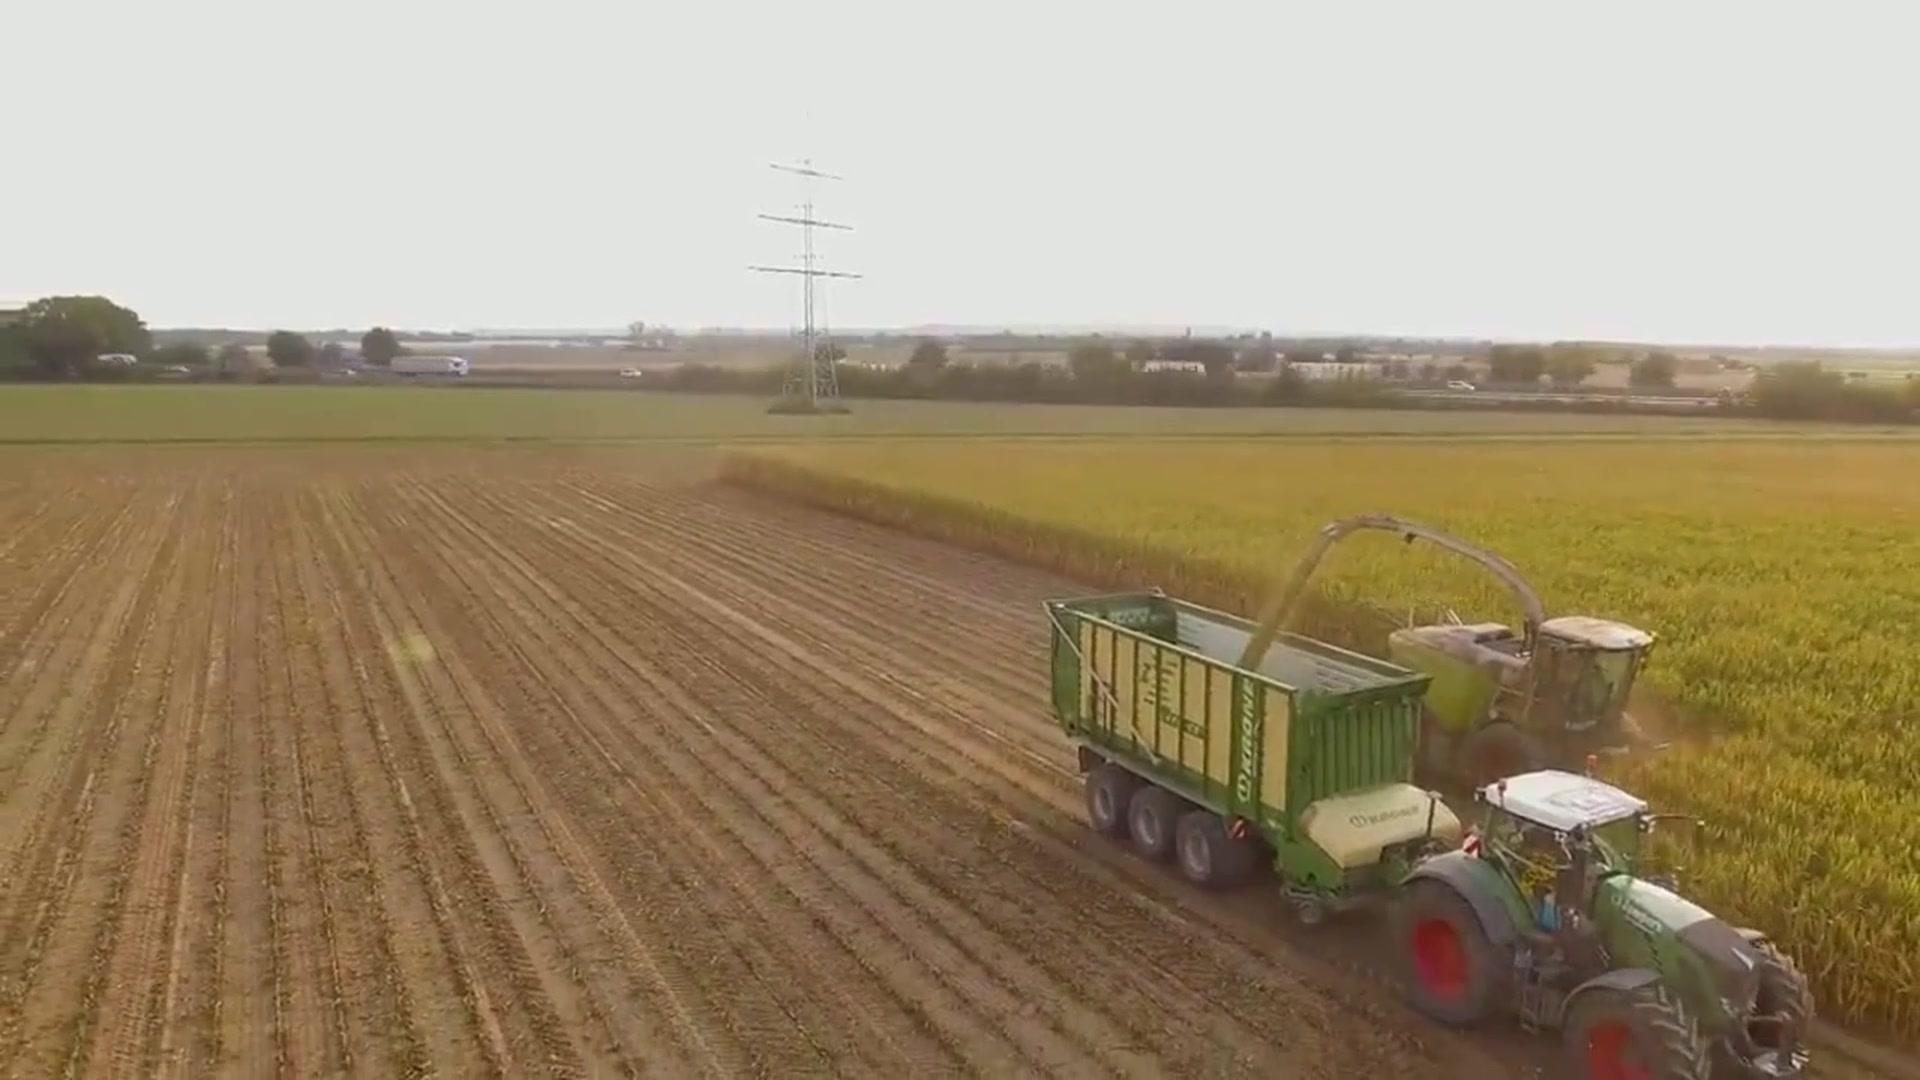combine harvester: (1315, 498, 1689, 816)
tractor: (1386, 765, 1834, 1080)
trailer: (1025, 555, 1460, 953)
